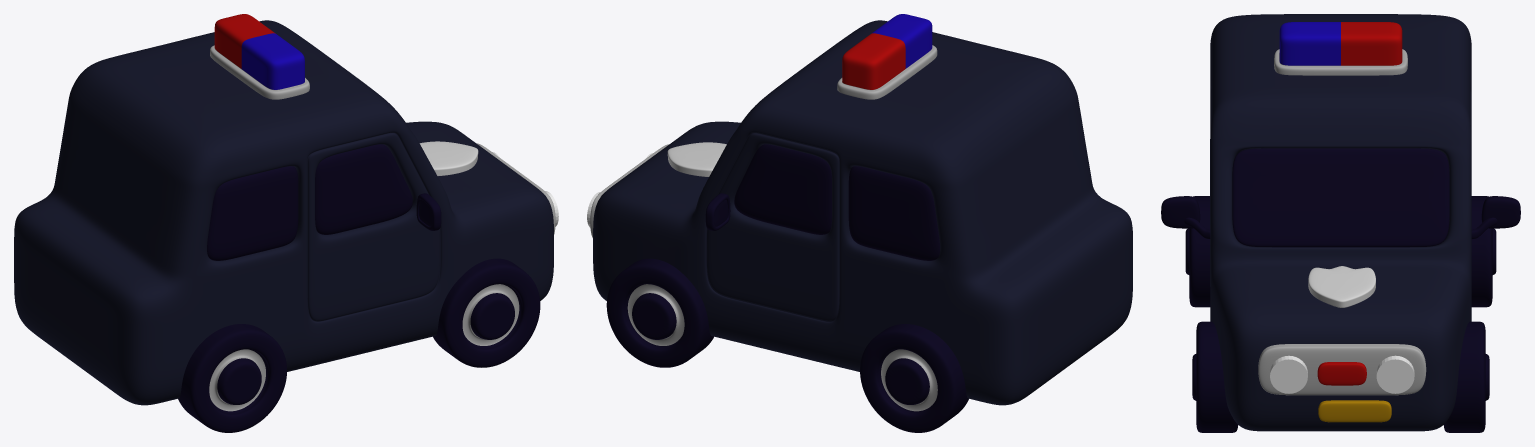
File: police-car-3d-icon-322879398343.glb
The picture shows the model from 3 angles, left to right: view 1: azimuth 30°, elevation 25°; view 2: azimuth 150°, elevation 25°; view 3: azimuth 270°, elevation 25°; orthographic projection.
Parts seen in each view (by area): view 1: Body, Tires, Windows, Siren Lamp 1, Rims, Siren Lamp 2, Badge, Siren Lamp Base, Mirrors; view 2: Body, Tires, Windows, Siren Lamp 2, Rims, Siren Lamp 1, Badge, Siren Lamp Base, Mirrors; view 3: Body, Windows, Tires, Front Panel, Siren Lamp 1, Siren Lamp 2, Mirrors, Lamp, Badge, Plate Number, Siren Lamp Base, Grill.
Boxes of the visible parts, x1=… form: Body: x1=14, y1=20, x2=553, y2=405; Tires: x1=178, y1=258, x2=540, y2=432; Windows: x1=207, y1=144, x2=412, y2=260; Siren Lamp 1: x1=241, y1=33, x2=304, y2=89; Rims: x1=209, y1=284, x2=519, y2=411; Siren Lamp 2: x1=214, y1=14, x2=275, y2=68; Badge: x1=419, y1=141, x2=478, y2=175; Siren Lamp Base: x1=210, y1=45, x2=309, y2=99; Mirrors: x1=416, y1=193, x2=441, y2=230; Body: x1=593, y1=20, x2=1132, y2=405; Tires: x1=606, y1=258, x2=968, y2=432; Windows: x1=734, y1=144, x2=939, y2=260; Siren Lamp 2: x1=842, y1=33, x2=905, y2=89; Rims: x1=627, y1=284, x2=937, y2=411; Siren Lamp 1: x1=872, y1=14, x2=932, y2=68; Badge: x1=667, y1=142, x2=726, y2=176; Siren Lamp Base: x1=837, y1=45, x2=937, y2=99; Mirrors: x1=705, y1=193, x2=730, y2=230; Body: x1=1210, y1=14, x2=1471, y2=431; Windows: x1=1232, y1=148, x2=1449, y2=247; Tires: x1=1185, y1=196, x2=1496, y2=432; Front Panel: x1=1258, y1=344, x2=1426, y2=395; Siren Lamp 1: x1=1279, y1=22, x2=1340, y2=65; Siren Lamp 2: x1=1341, y1=22, x2=1402, y2=65; Mirrors: x1=1161, y1=196, x2=1520, y2=238; Lamp: x1=1270, y1=355, x2=1414, y2=393; Badge: x1=1308, y1=266, x2=1375, y2=307; Plate Number: x1=1318, y1=400, x2=1391, y2=422; Siren Lamp Base: x1=1274, y1=49, x2=1407, y2=75; Grill: x1=1317, y1=362, x2=1366, y2=385.
Size of the model in its own units: 0.8415 by 0.5637 by 0.5744.
